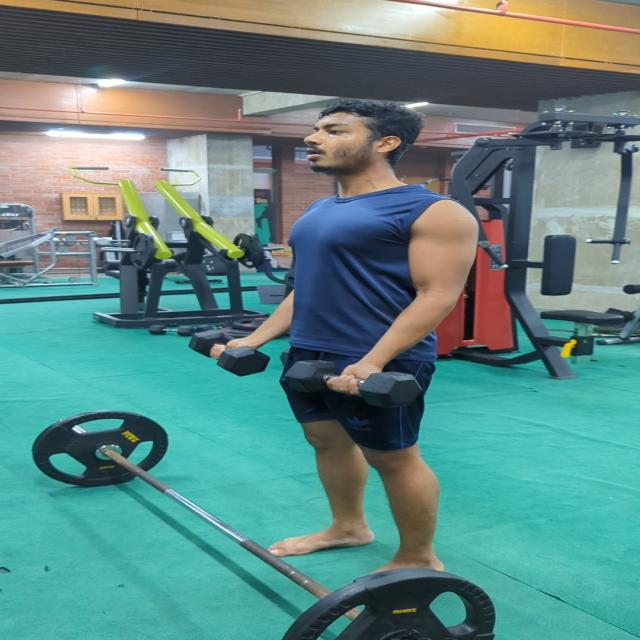Normal_DumbbellBicepCurls: (189, 98, 485, 596)
